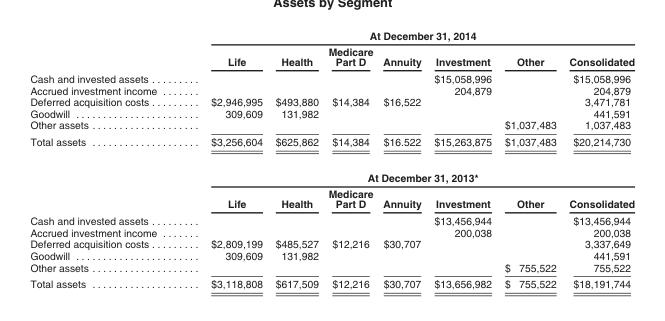table: (29, 29, 634, 289)
table column: (29, 29, 183, 289), (183, 29, 268, 289), (562, 29, 634, 289), (427, 29, 497, 289), (497, 29, 562, 289), (322, 29, 377, 289), (268, 29, 322, 289), (377, 29, 427, 289)
table column header: (29, 29, 634, 69)
table row: (29, 185, 634, 212), (29, 43, 634, 69), (29, 133, 634, 159), (29, 159, 634, 185), (29, 69, 634, 84), (29, 29, 634, 43), (29, 119, 634, 133), (29, 212, 634, 226), (29, 261, 634, 275), (29, 275, 634, 289), (29, 95, 634, 107), (29, 107, 634, 119), (29, 237, 634, 249), (29, 249, 634, 261), (29, 84, 634, 95), (29, 226, 634, 237)
table spanning cell: (183, 159, 634, 185), (183, 29, 634, 43)
